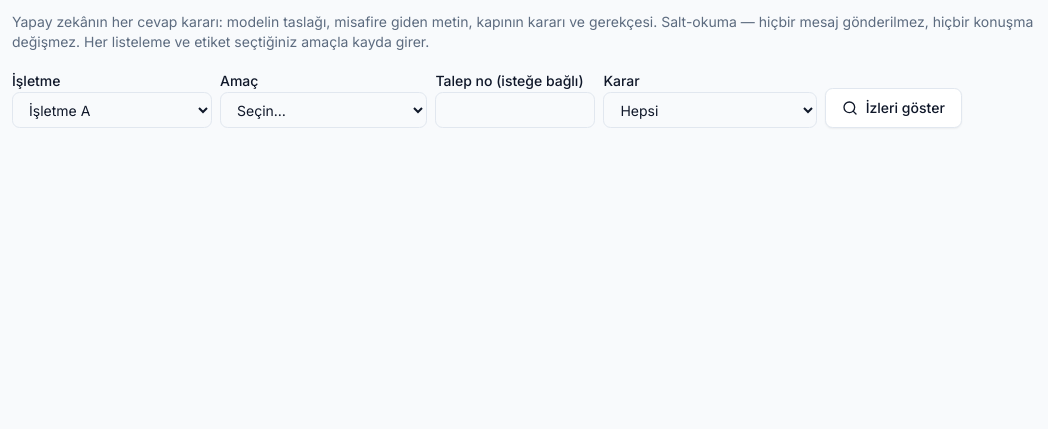
Test: kalite konsolu — geç gelen yanıt güncel seçimin altında görünmez (H3) › KONTROL: tek istek (seçim değişmedi) bugünkü gibi uygulanır; sayfalama listeye ekler
Later steps or results of the test are not shown.
Step 1. Select "Kalite incelemesi" in the dropdown labelled "Amaç" → (324, 110), box [220, 92, 427, 128]
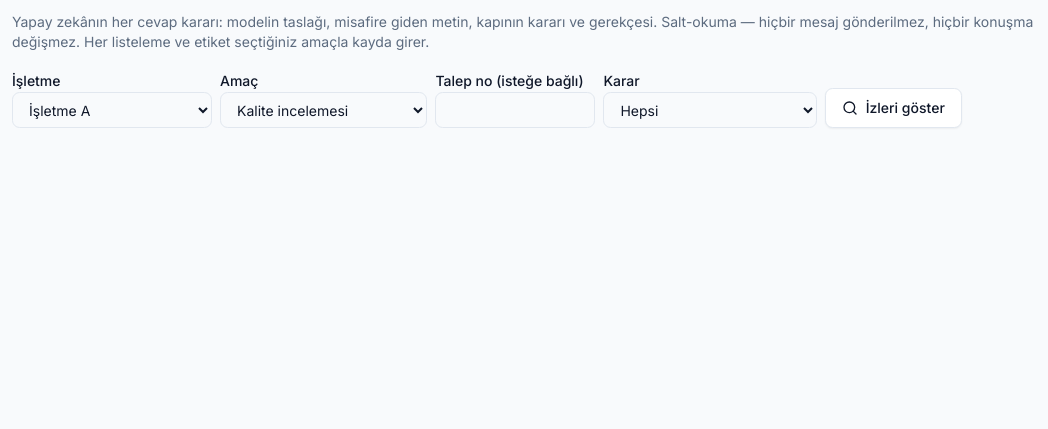
Step 2. Click the button "İzleri göster" → (893, 108), box [825, 88, 962, 128]
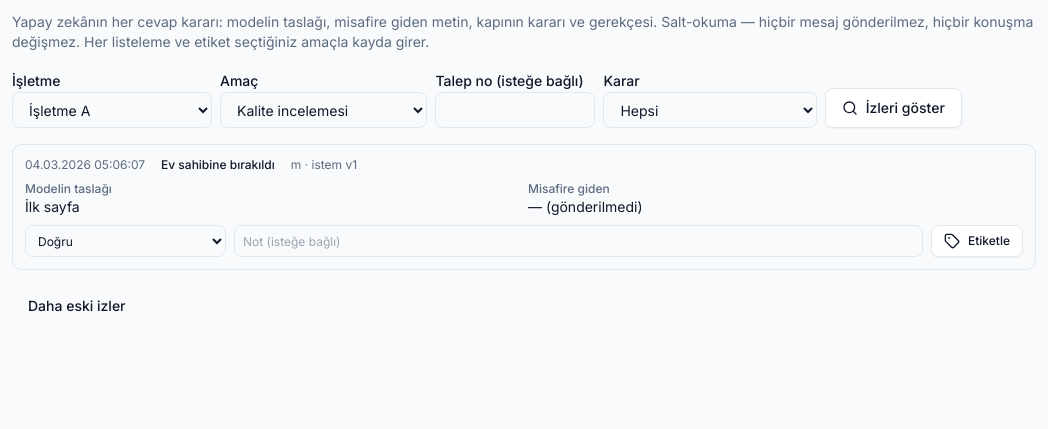
expect the text "İlk sayfa" is shown: met, box [25, 198, 80, 215]
Step 3. Click the button "Daha eski izler" → (77, 306), box [12, 286, 142, 326]
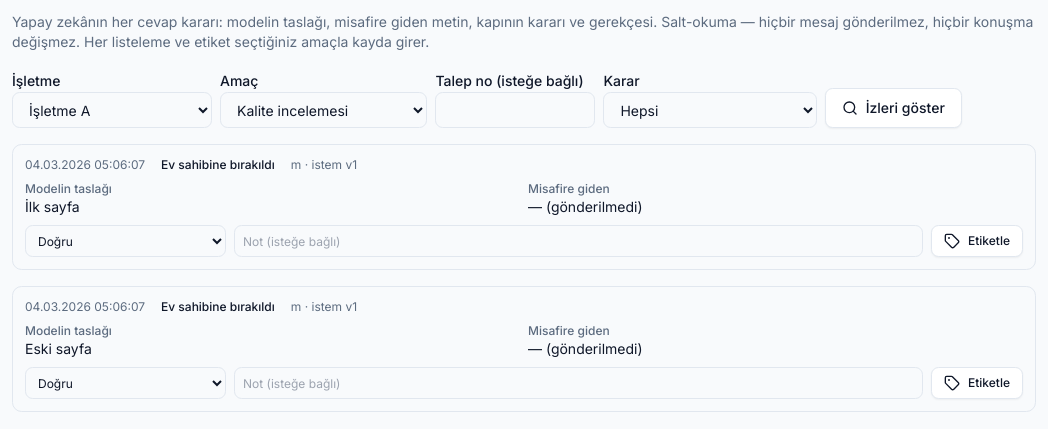
expect the text "İlk sayfa" is shown: met, box [25, 198, 80, 215]
expect the text "Eski sayfa" is shown: met, box [25, 340, 92, 357]
